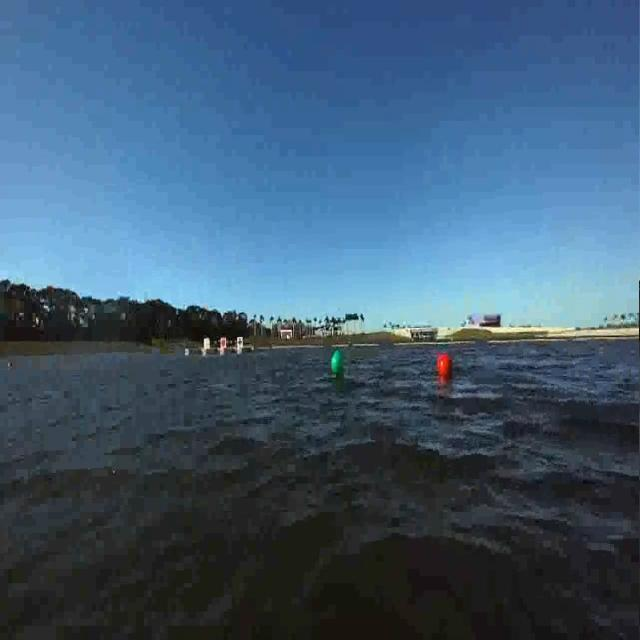green-buoy: (332, 350, 346, 377)
red-buoy: (437, 354, 451, 375)
